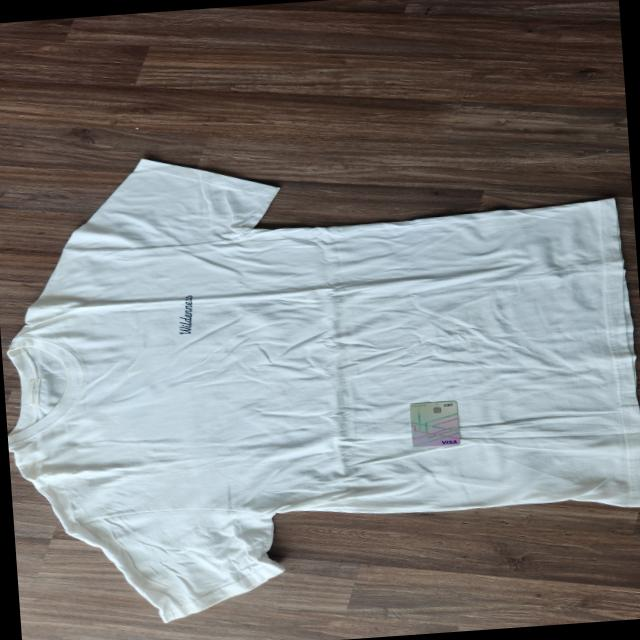card: (408, 398, 462, 447)
